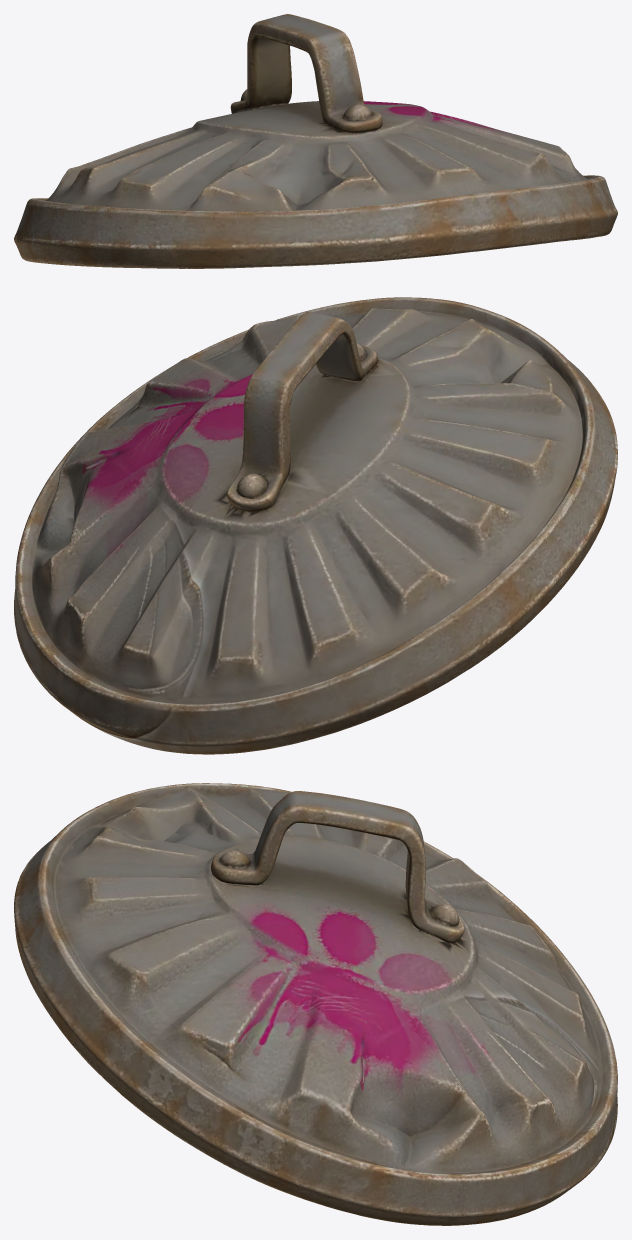
The model's file is prop-binlid.glb.
3 renders of one model, top to bottom at view 1: azimuth 30°, elevation 25°; view 2: azimuth 150°, elevation 25°; view 3: azimuth 270°, elevation 25°, orthographic. The views are drawn at different scales.
Parts seen in each view (by area): view 1: tripo_node_32daa252-c14d-4a72-be4a-f5b4b89a8c5b; view 2: tripo_node_32daa252-c14d-4a72-be4a-f5b4b89a8c5b; view 3: tripo_node_32daa252-c14d-4a72-be4a-f5b4b89a8c5b.
Part boxes in pixels (<box>): tripo_node_32daa252-c14d-4a72-be4a-f5b4b89a8c5b: <box>14,14,617,268</box>; tripo_node_32daa252-c14d-4a72-be4a-f5b4b89a8c5b: <box>14,297,617,754</box>; tripo_node_32daa252-c14d-4a72-be4a-f5b4b89a8c5b: <box>14,783,617,1225</box>.
Size of the model in its own units: 0.9797 by 0.5805 by 0.9328.
Materials: 1 (1 with a texture image).
